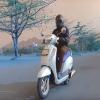motorcycles: (32, 32, 74, 94)
